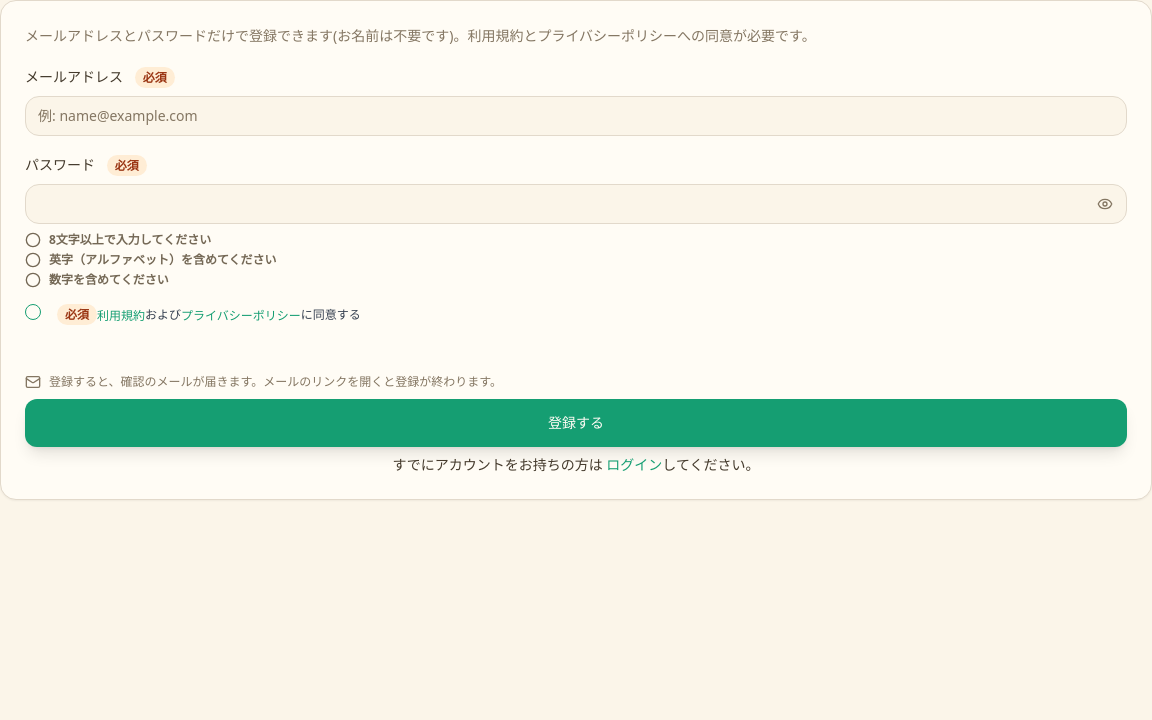
it: RegisterForm › 変換できないエラーは、英語のまま出さず日本語の文にする
The image size is (1152, 720).
Type "parent@example.com" into the field labelled "メールアドレス 必須". click: coordinates (576, 116)
box: [25,96,1127,136]
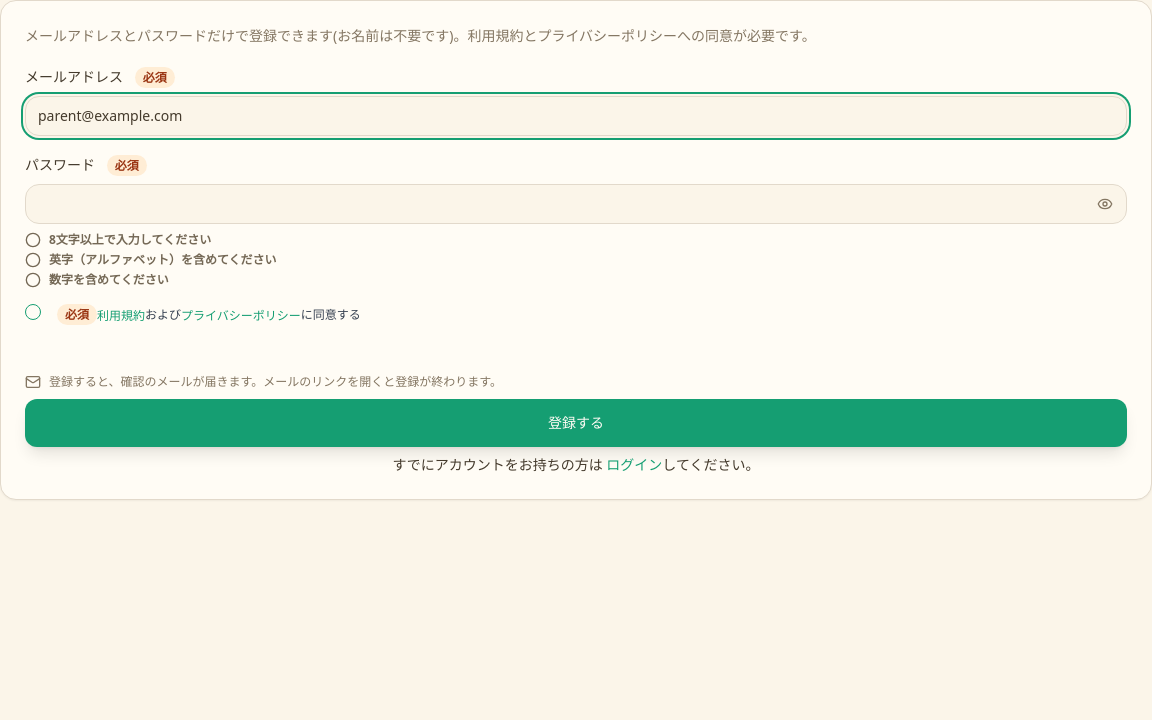
Type "password1" into the password field labelled "パスワード 必須". click: coordinates (576, 204)
box: [25,184,1127,224]
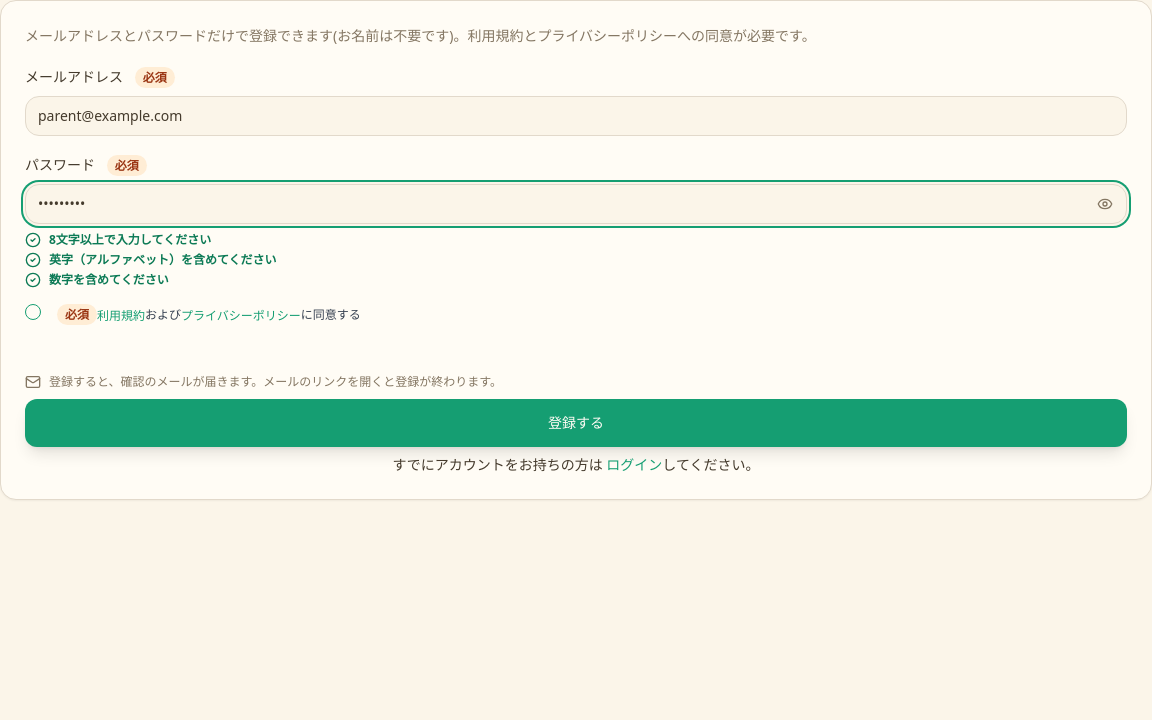
Click the checkbox with test id "agree-to-terms-checkbox". click: coordinates (33, 312)
box: [25,304,41,320]
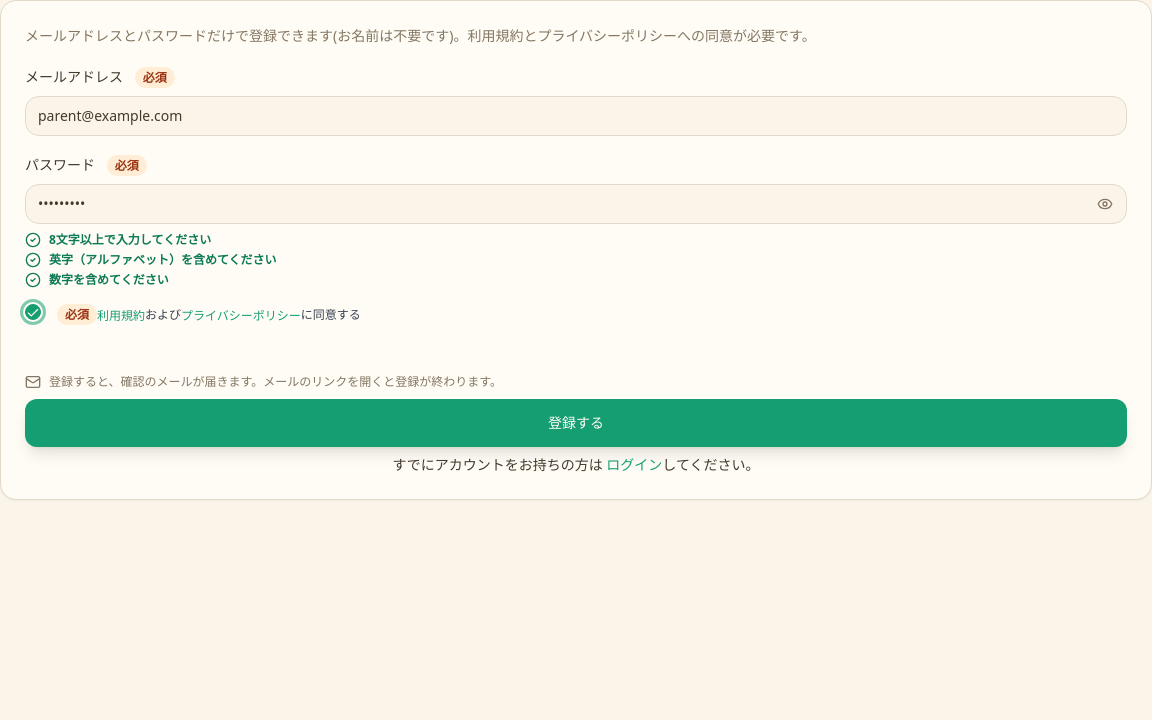
Click the button "登録する". click: coordinates (576, 423)
box: [25,399,1127,447]
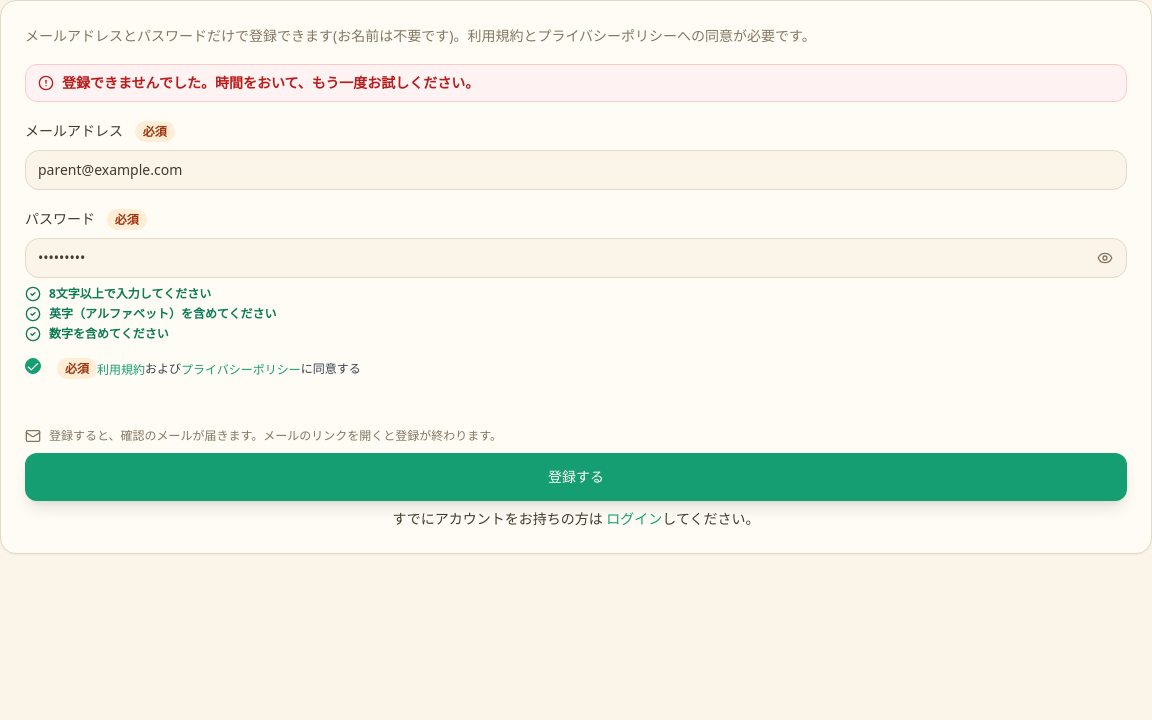
Expected: the message does not show "Database", [25,64,1127,102]
Result: the message reads "登録できませんでした。時間をおいて、もう一度お試しください。" at [62,73,479,92]
